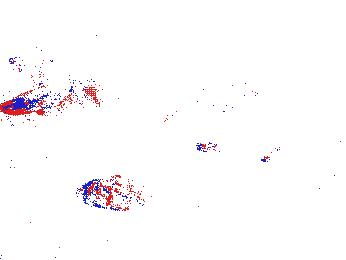X-ray fish: (77, 177, 152, 211), (22, 28, 54, 77)
red belly glassfish: (194, 135, 240, 155), (256, 142, 284, 166)
redtail glassfish: (11, 52, 95, 107), (154, 98, 241, 129), (4, 86, 88, 115), (183, 76, 264, 103)
